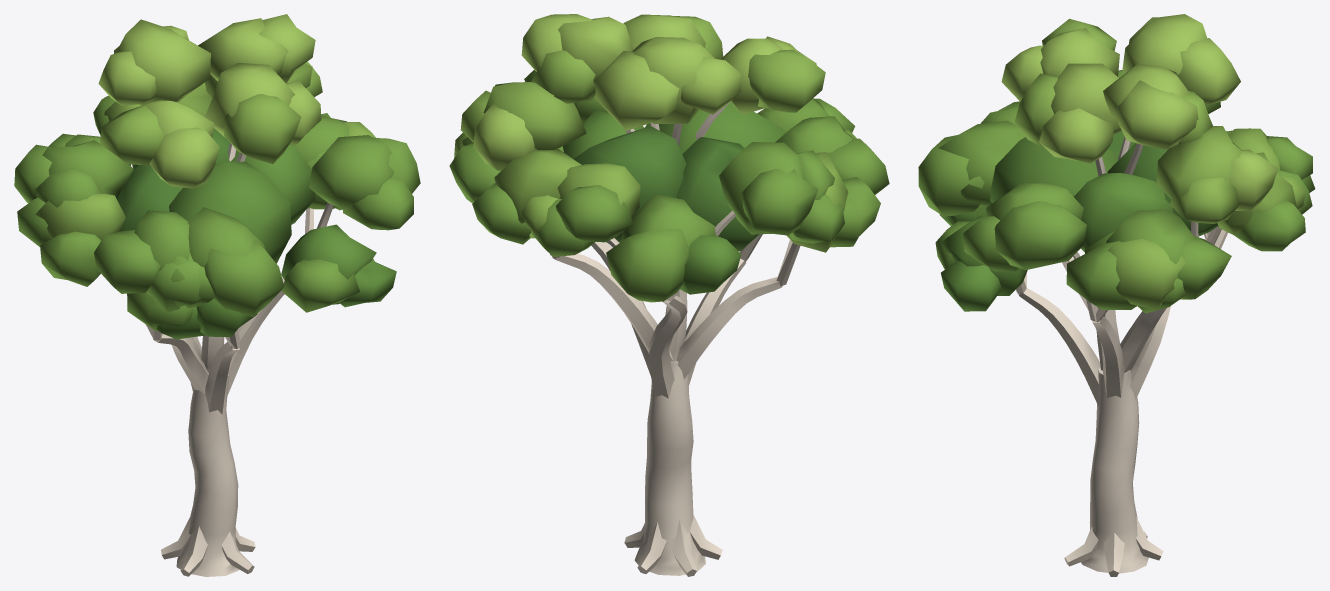
The model's file is oak.glb.
3 renders of one model, left to right at view 1: azimuth 30°, elevation 25°; view 2: azimuth 150°, elevation 25°; view 3: azimuth 270°, elevation 25°, orthographic. The views are drawn at different scales.
Parts seen in each view (by area): view 1: oak; view 2: oak; view 3: oak.
Part boxes in pixels (<box>): oak: <box>14,14,420,576</box>; oak: <box>449,14,889,576</box>; oak: <box>918,14,1315,576</box>.
Bounding box in the file's own units: 5.27 × 7.35 × 5.04.
